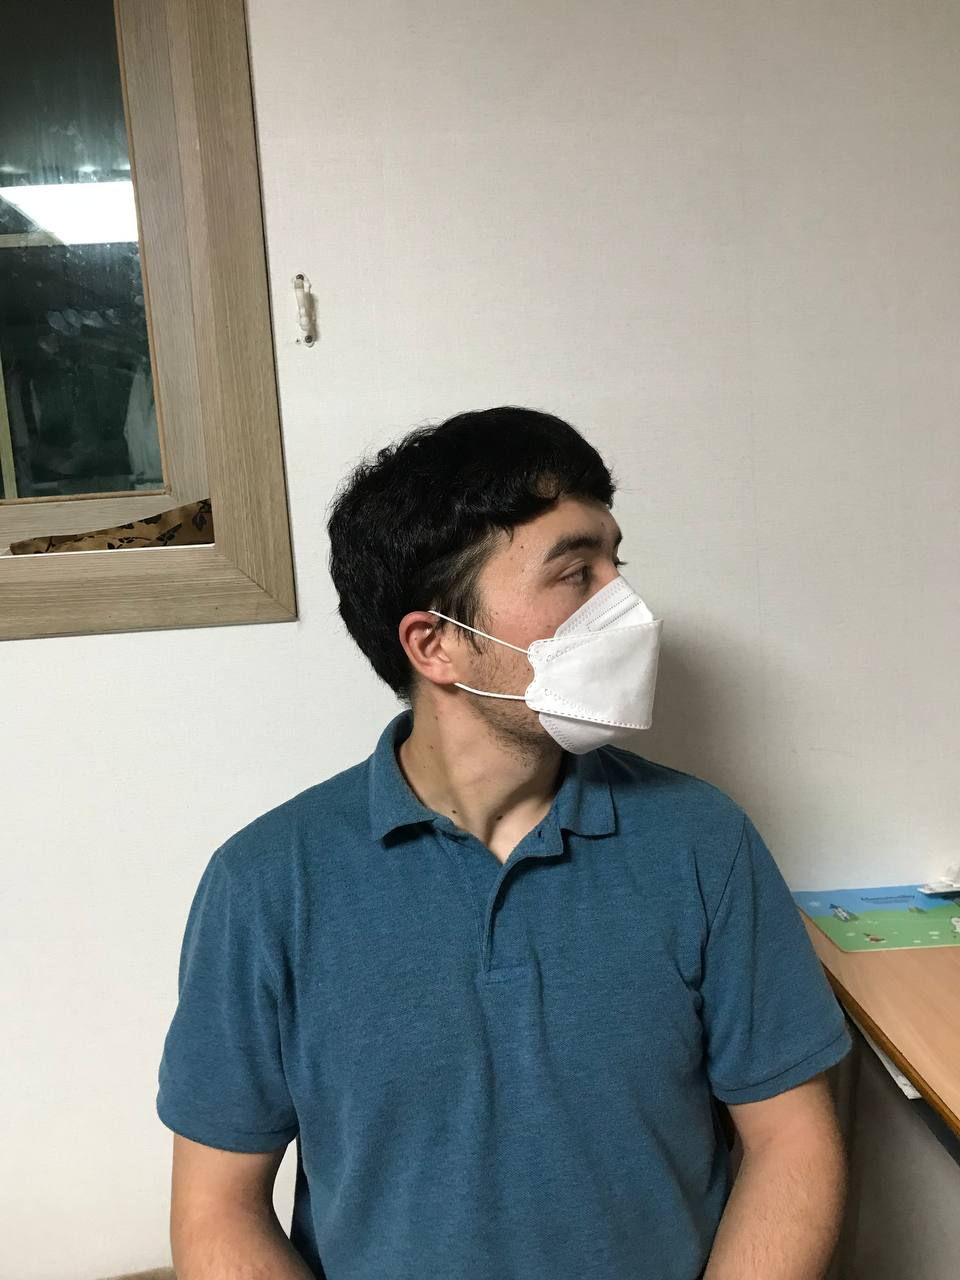Mask: (324, 569, 675, 758)
